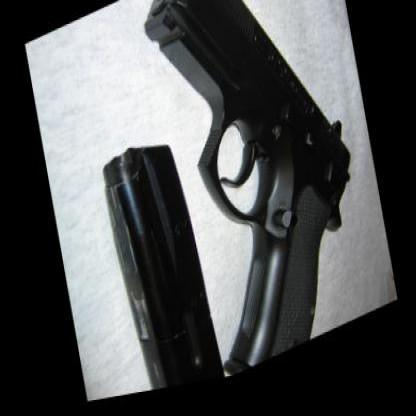pistol: (138, 0, 378, 395)
